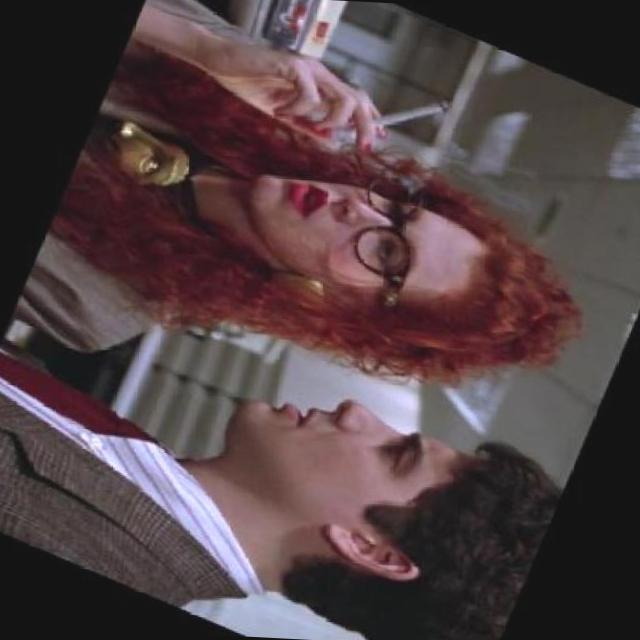cigarette: (342, 66, 452, 167)
